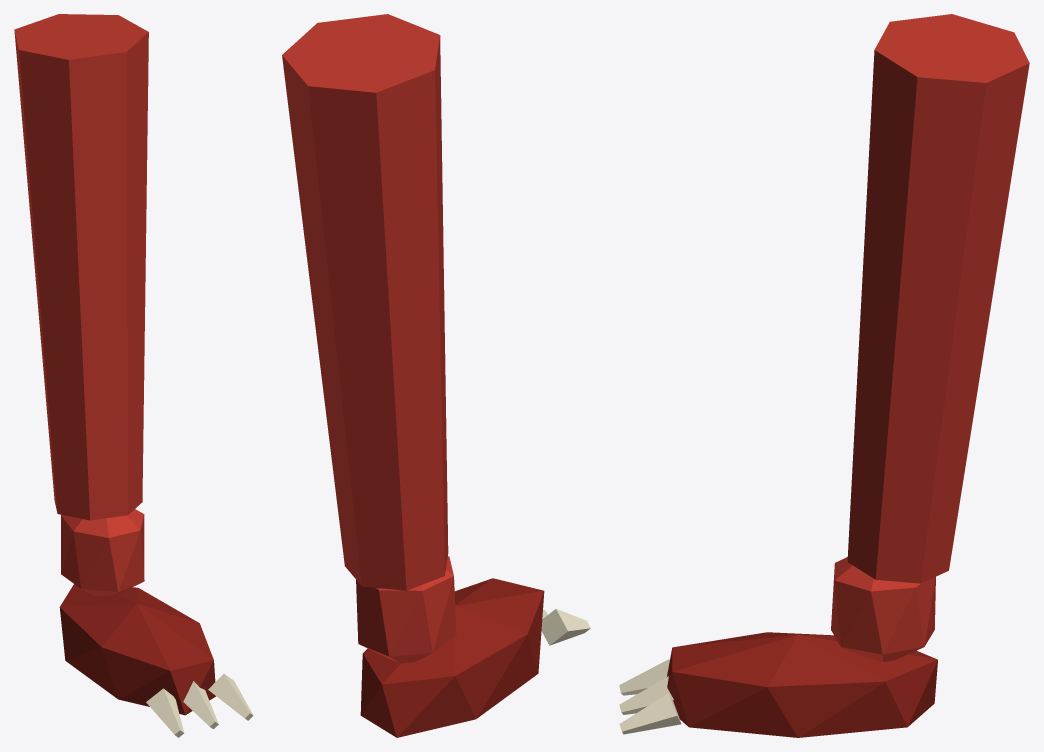
File: goblin_3_leg_r.glb
3 views of the same model, side by side, from view 1: azimuth 30°, elevation 25°; view 2: azimuth 150°, elevation 25°; view 3: azimuth 270°, elevation 25° (orthographic). The views are drawn at different scales.
Visible parts, largest first — view 1: goblin_3_leg_r; view 2: goblin_3_leg_r; view 3: goblin_3_leg_r.
Part boxes in pixels (x1,y1,x2,y2): goblin_3_leg_r: [14, 14, 253, 737]; goblin_3_leg_r: [282, 14, 590, 737]; goblin_3_leg_r: [619, 14, 1029, 737].
Bounding box in the file's own units: 0.0989 × 0.5006 × 0.2669.
